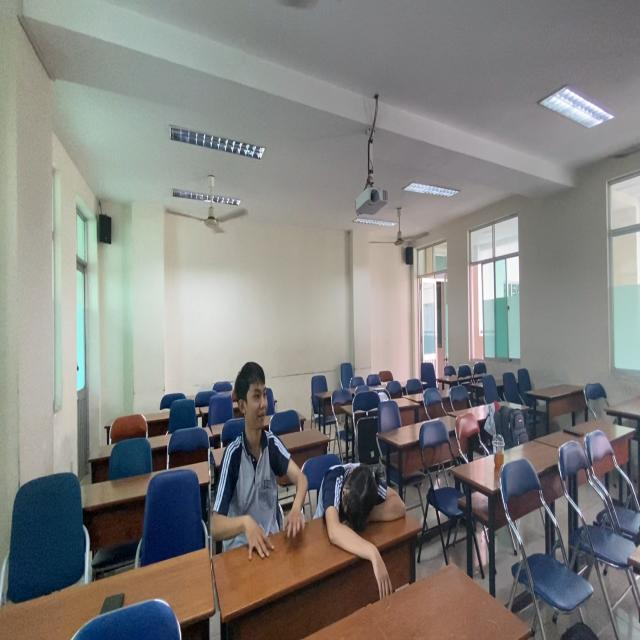sleep: (312, 453, 414, 569)
